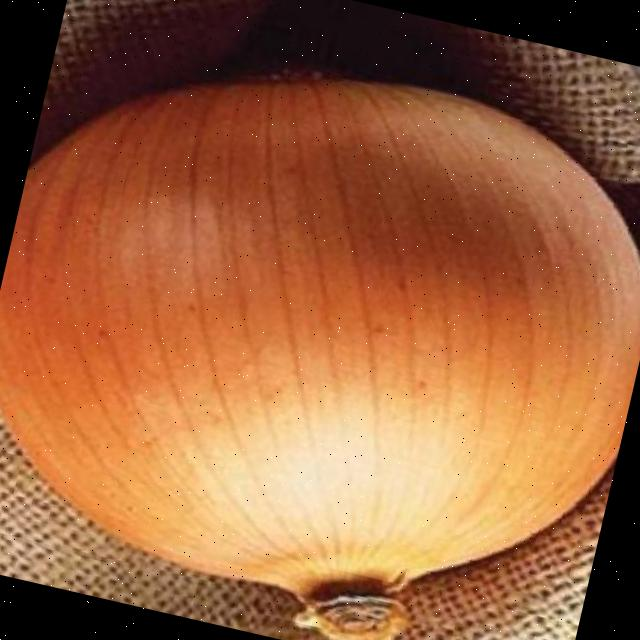Onion: (0, 78, 640, 640)
